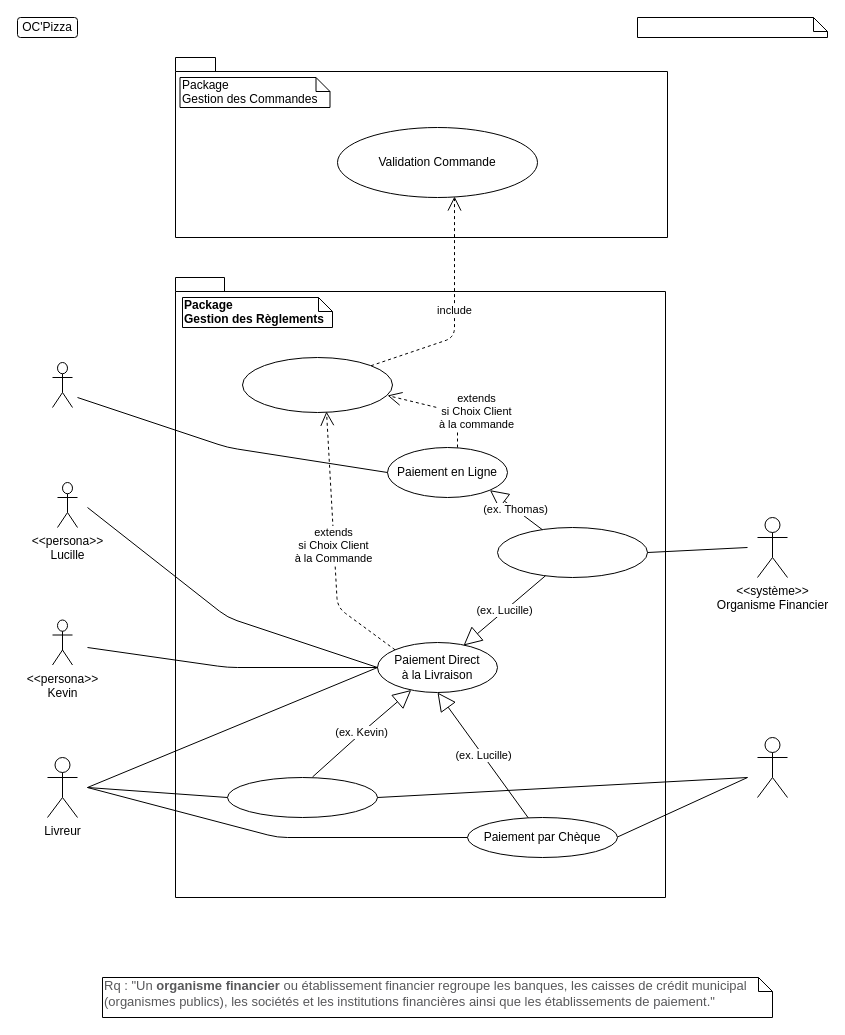
Image size: 845x1035. Some labels were removed from this diagram. Here are the shapes that lost their labels. From the top down, the centre of each, then its label:
At (732,27): "Diagramme de Cas d'Utilisation".
At (62,385): "<<persona>> Thomas".
At (317,384): "Choix Mode de Paiement".
At (572,552): "Paiement Electronique (ex. par CB)".
At (772,767): "<<système>> Caisse".
At (302,797): "Paiement en Espèces".
